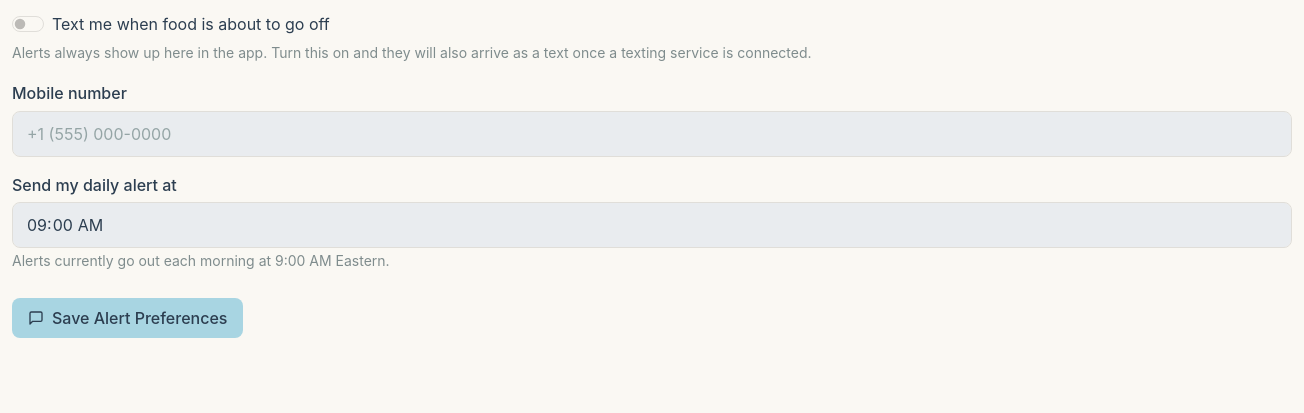
Test: SmsAlertSettings › reports a save failure
Step 1. Click the button "Save Alert Preferences" → (128, 318), box [12,298,243,338]
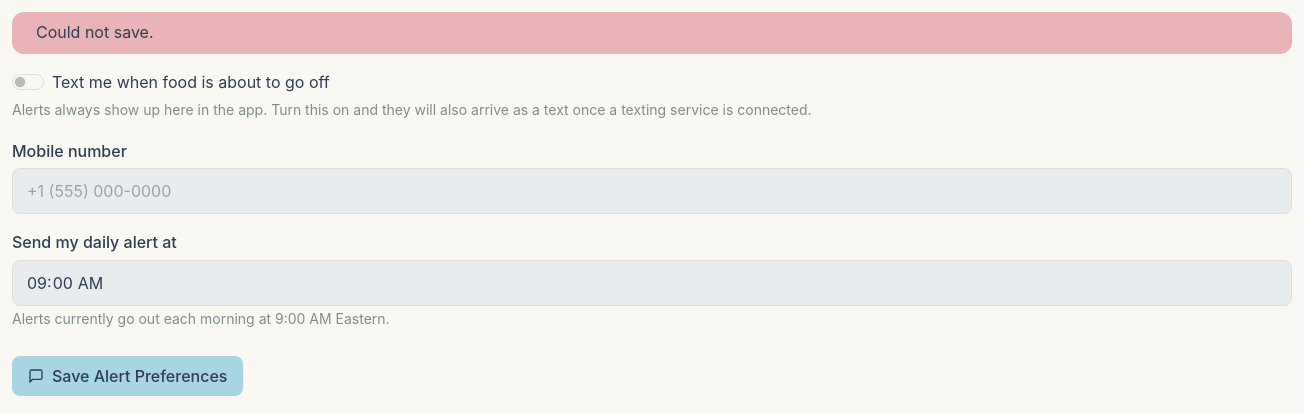
Check: the text "Could not save." is shown, box [12,12,1292,54]
